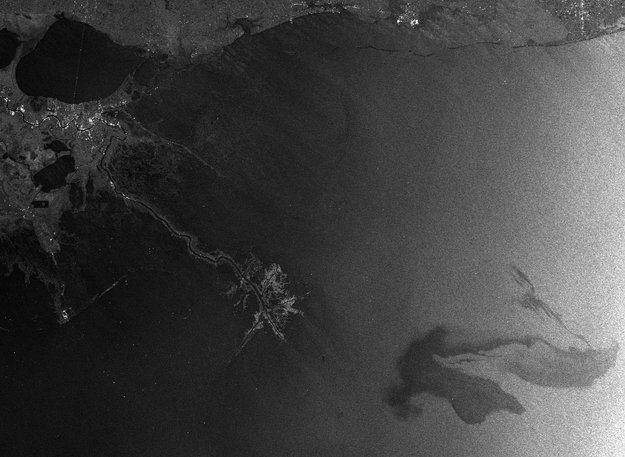anomaly: (369, 270, 625, 447)
